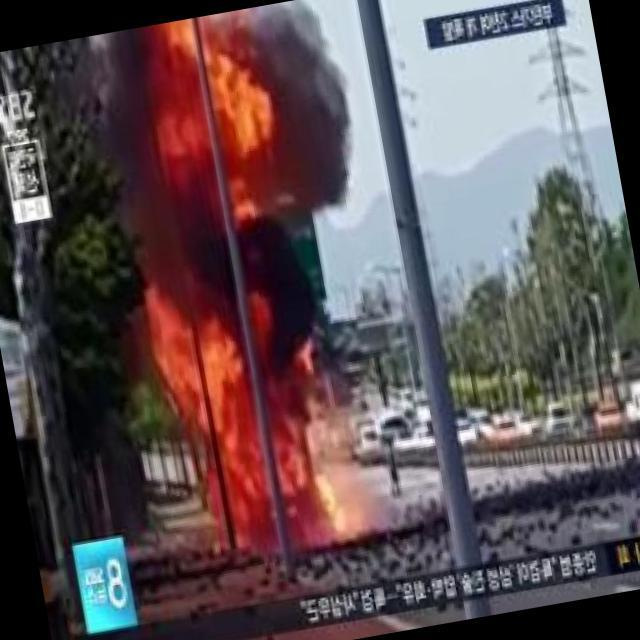Fire: (147, 299, 348, 571), (162, 43, 276, 192)
